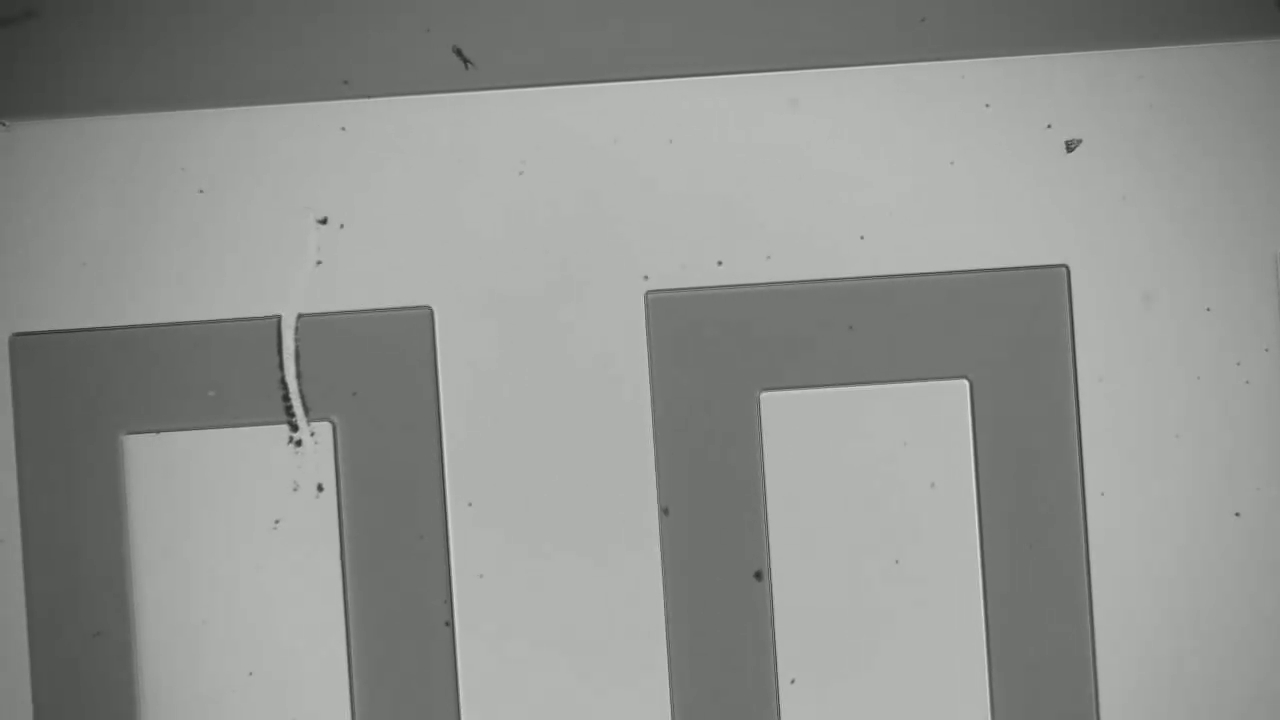Short_circuit: (257, 286, 324, 446)
